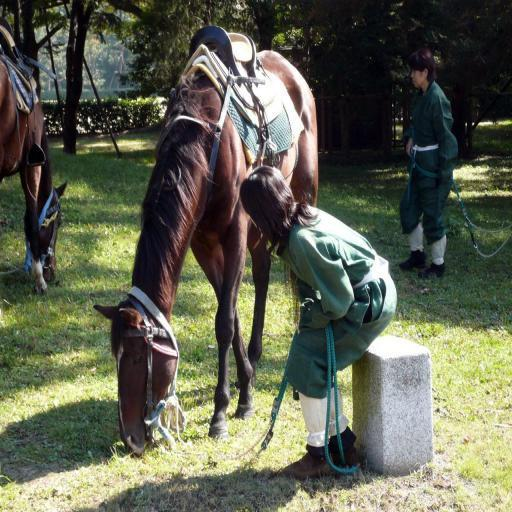horse: (94, 50, 318, 458), (0, 46, 70, 294)
